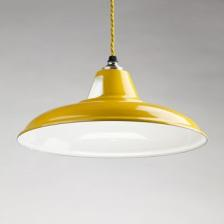yellow: (17, 69, 208, 158)
